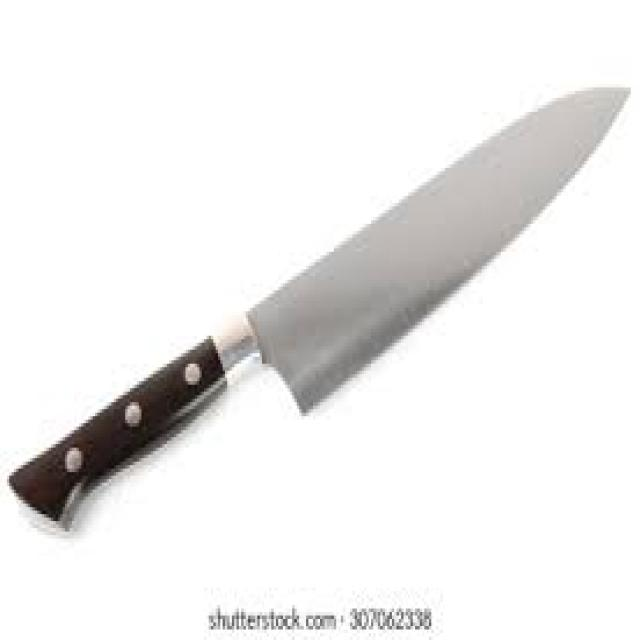Knife: (7, 81, 631, 528)
